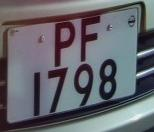1: (27, 65, 47, 121)
7: (44, 64, 72, 116)
8: (96, 55, 122, 103)
9: (71, 58, 97, 110)
F: (76, 16, 104, 62)
P: (48, 16, 81, 69)
